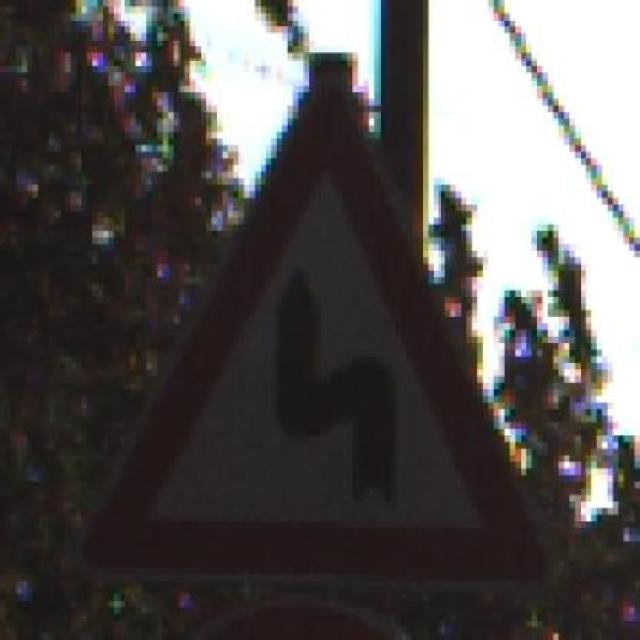Left Zig Zag Traffic: (76, 52, 564, 594)
